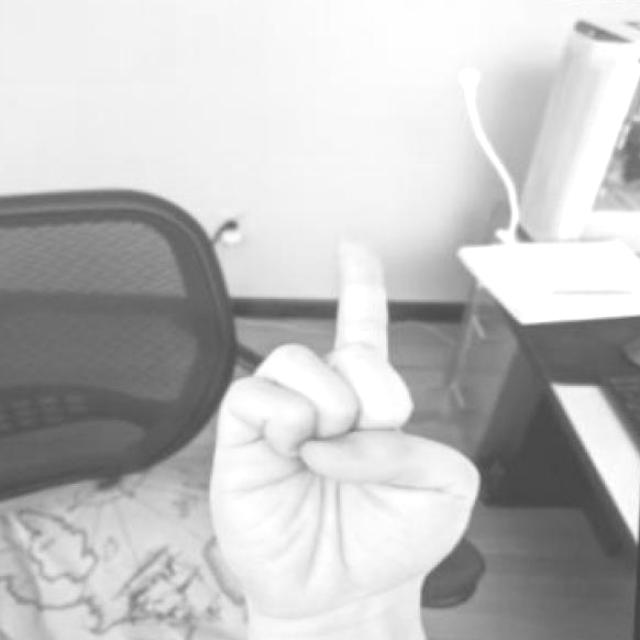D: (185, 224, 494, 640)
